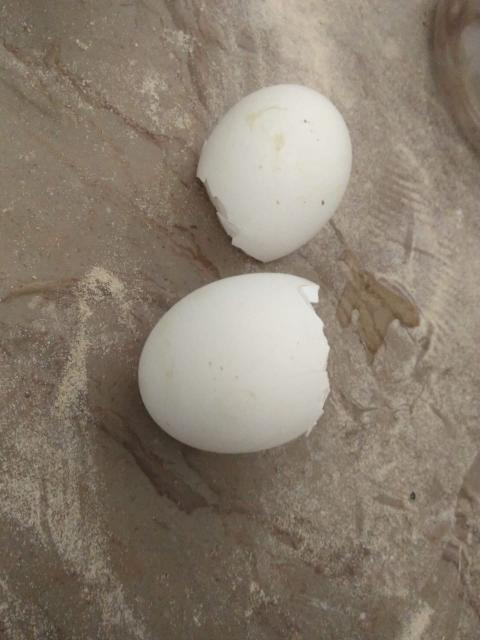Roto: (136, 270, 332, 454), (195, 82, 353, 263)
